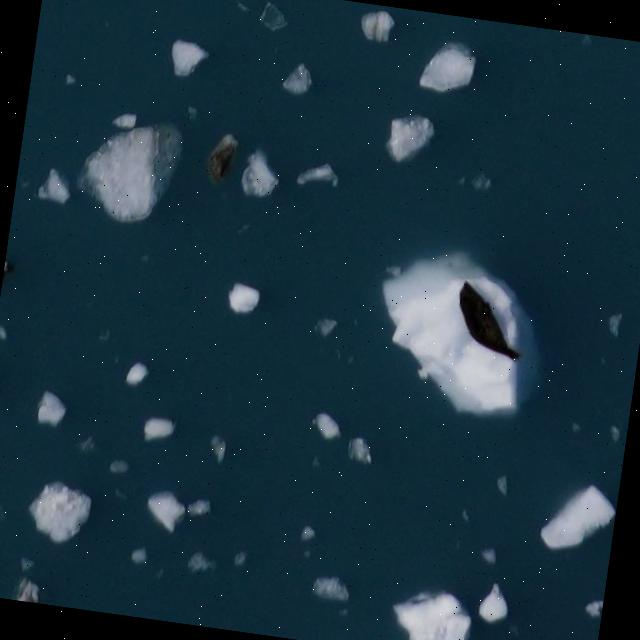seal: (443, 275, 524, 377)
